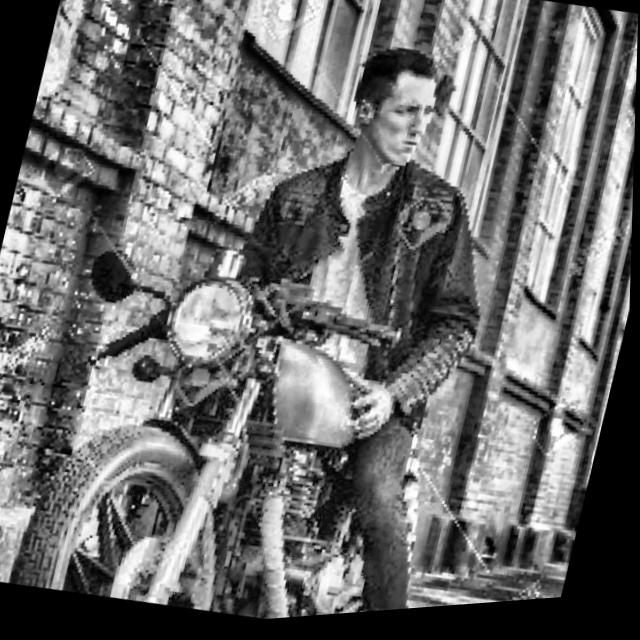motorcycle: (0, 211, 489, 640)
